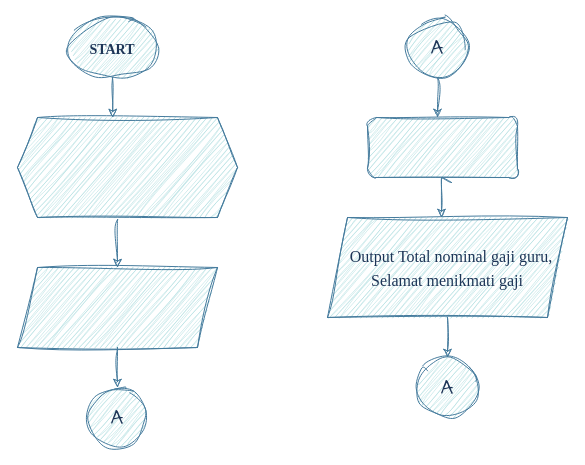
This 585x465 diagram has some shape labels left out. The shapes that lost their labels are listed below. From the top down, each one's box as (x1, y1, x2, y2) in pixels, then its label:
(16, 116, 238, 218): String NamaGuru, jabatan Int NIP, Lama_pokok, total Long Gaji_pokok, total
(366, 116, 518, 178): Total = Gaji pokok + tunjangan
(16, 266, 218, 348): Input Nama guru, NIP, jabatan, Lama_mengajar
